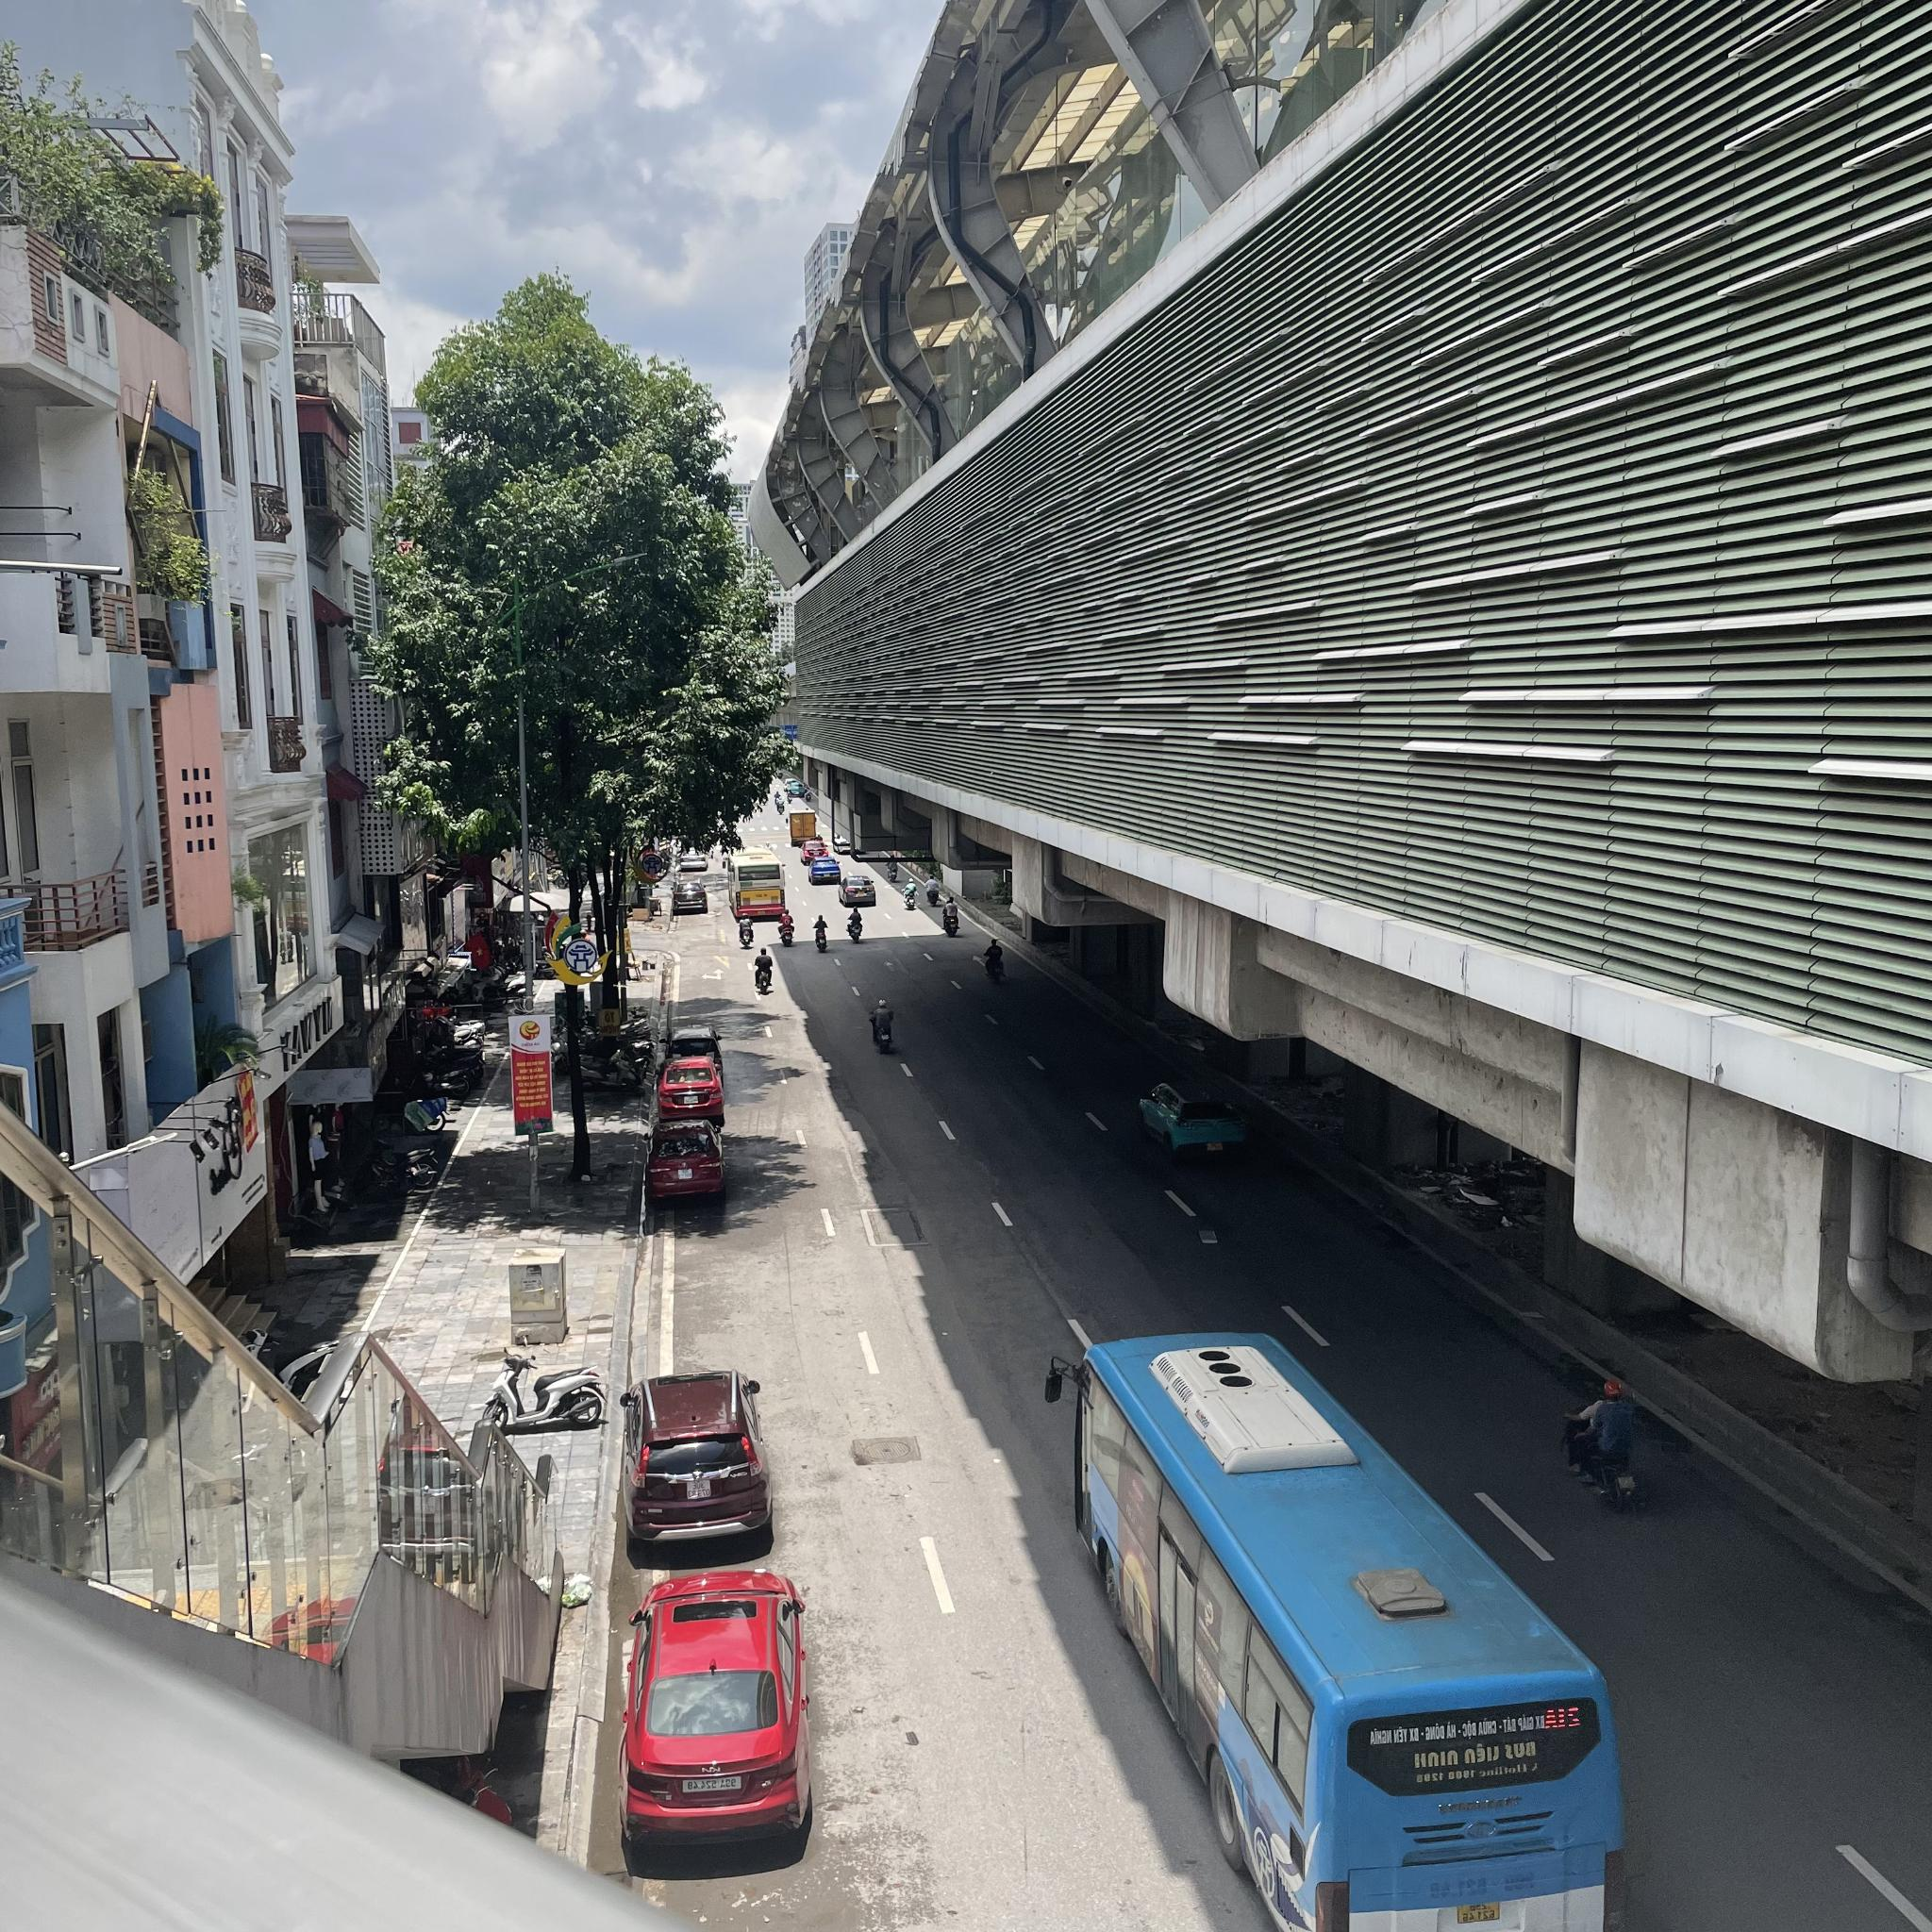car: (1042, 1326, 1625, 1932), (616, 1568, 814, 1851), (618, 1368, 774, 1545), (1134, 1074, 1250, 1161), (641, 1116, 725, 1203), (722, 846, 787, 921), (655, 1056, 724, 1124), (658, 1024, 724, 1078), (672, 878, 708, 916), (838, 875, 876, 907), (808, 857, 841, 884), (798, 840, 828, 865)
motobike: (1557, 1374, 1643, 1507), (867, 999, 896, 1052), (753, 945, 774, 993), (983, 937, 1005, 984), (941, 896, 960, 940), (776, 909, 795, 945), (737, 911, 754, 950), (846, 906, 863, 944), (901, 877, 920, 911), (812, 913, 828, 953), (924, 874, 942, 908)
